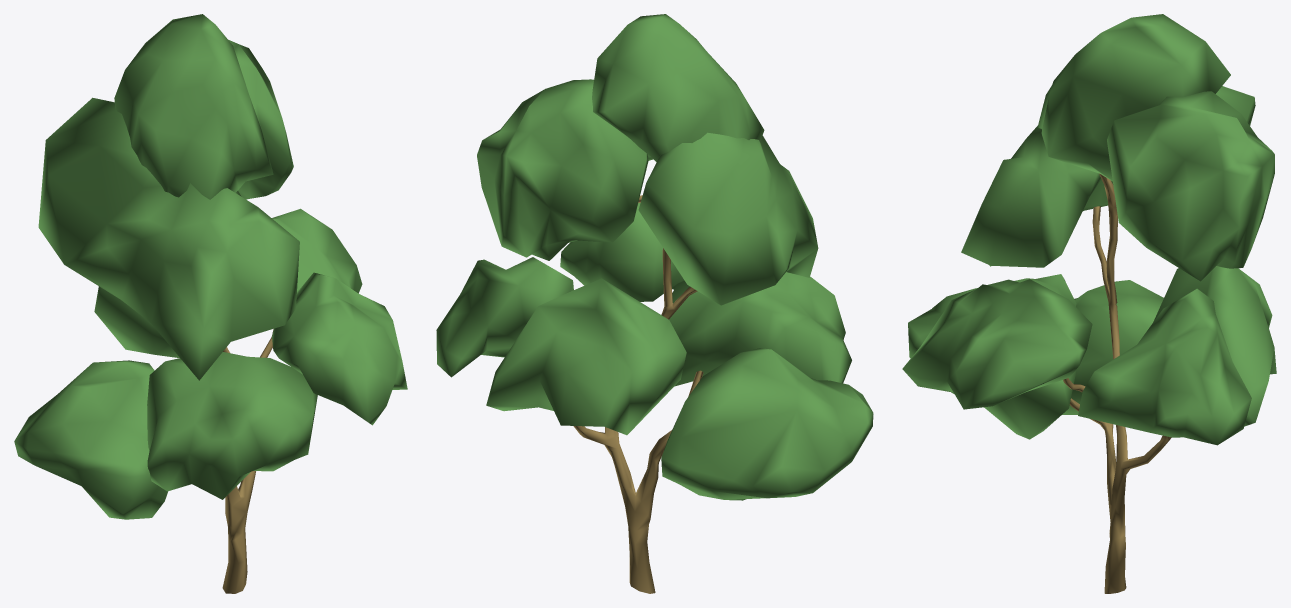
Rendered from tree2.glb.
3 views of the same model, side by side, from view 1: azimuth 30°, elevation 25°; view 2: azimuth 150°, elevation 25°; view 3: azimuth 270°, elevation 25° (orthographic). The views are drawn at different scales.
Parts seen in each view (by area): view 1: Cube.408; view 2: Cube.408; view 3: Cube.408.
Part boxes in pixels (x1,y1,x2,y2): Cube.408: (14,14,407,593); Cube.408: (436,14,873,593); Cube.408: (902,14,1276,593).
Size of the model in its own units: 5.4 by 8.12 by 4.88.
1 material, 1 textured.
